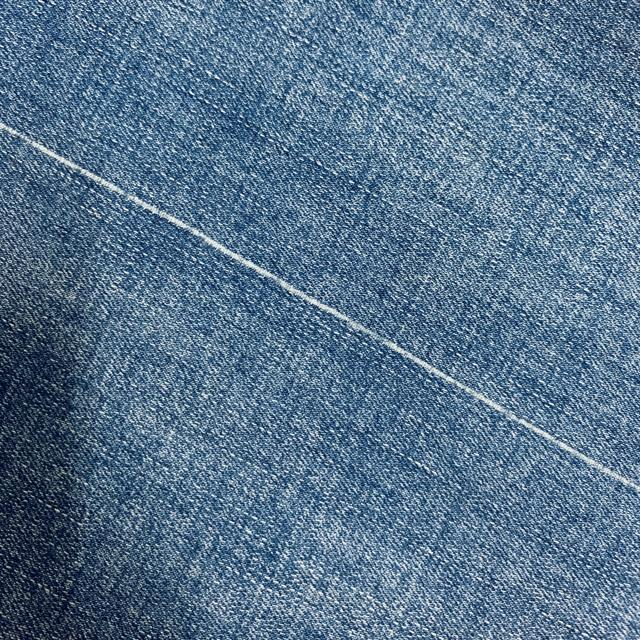Line: (0, 122, 640, 496)
